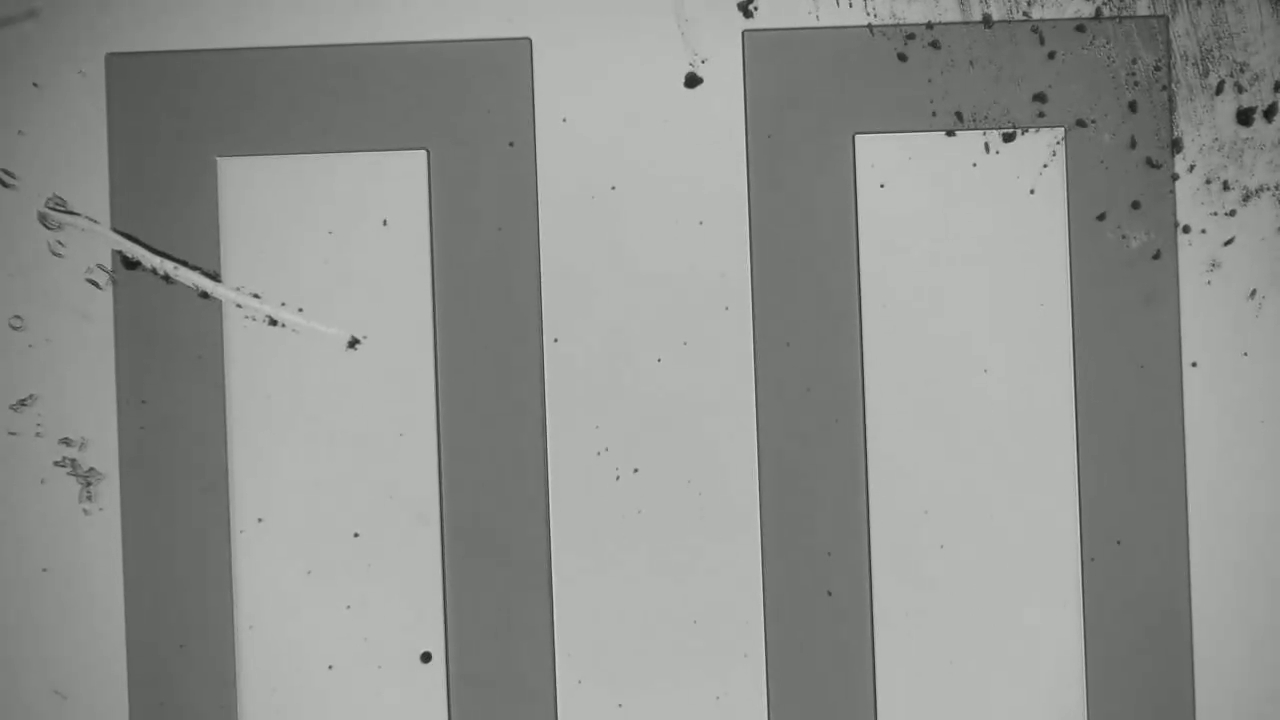Short_circuit: (72, 192, 246, 326)
